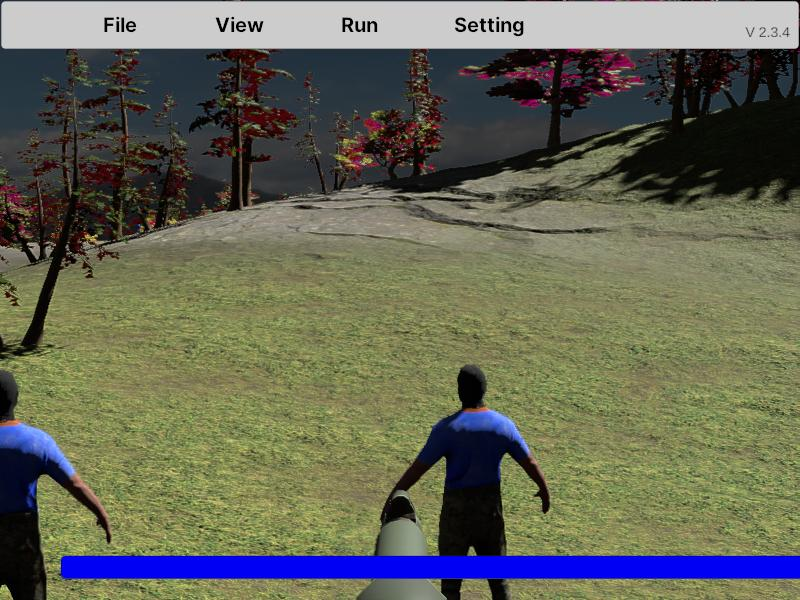Human: (380, 360, 552, 598), (0, 365, 113, 598)
